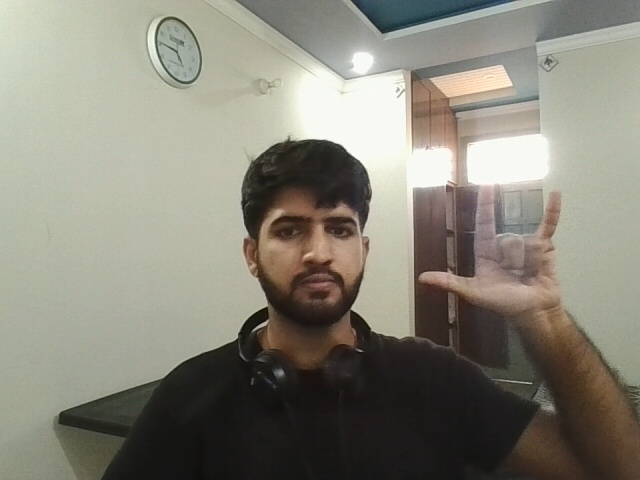I Love You: (409, 176, 579, 331)
